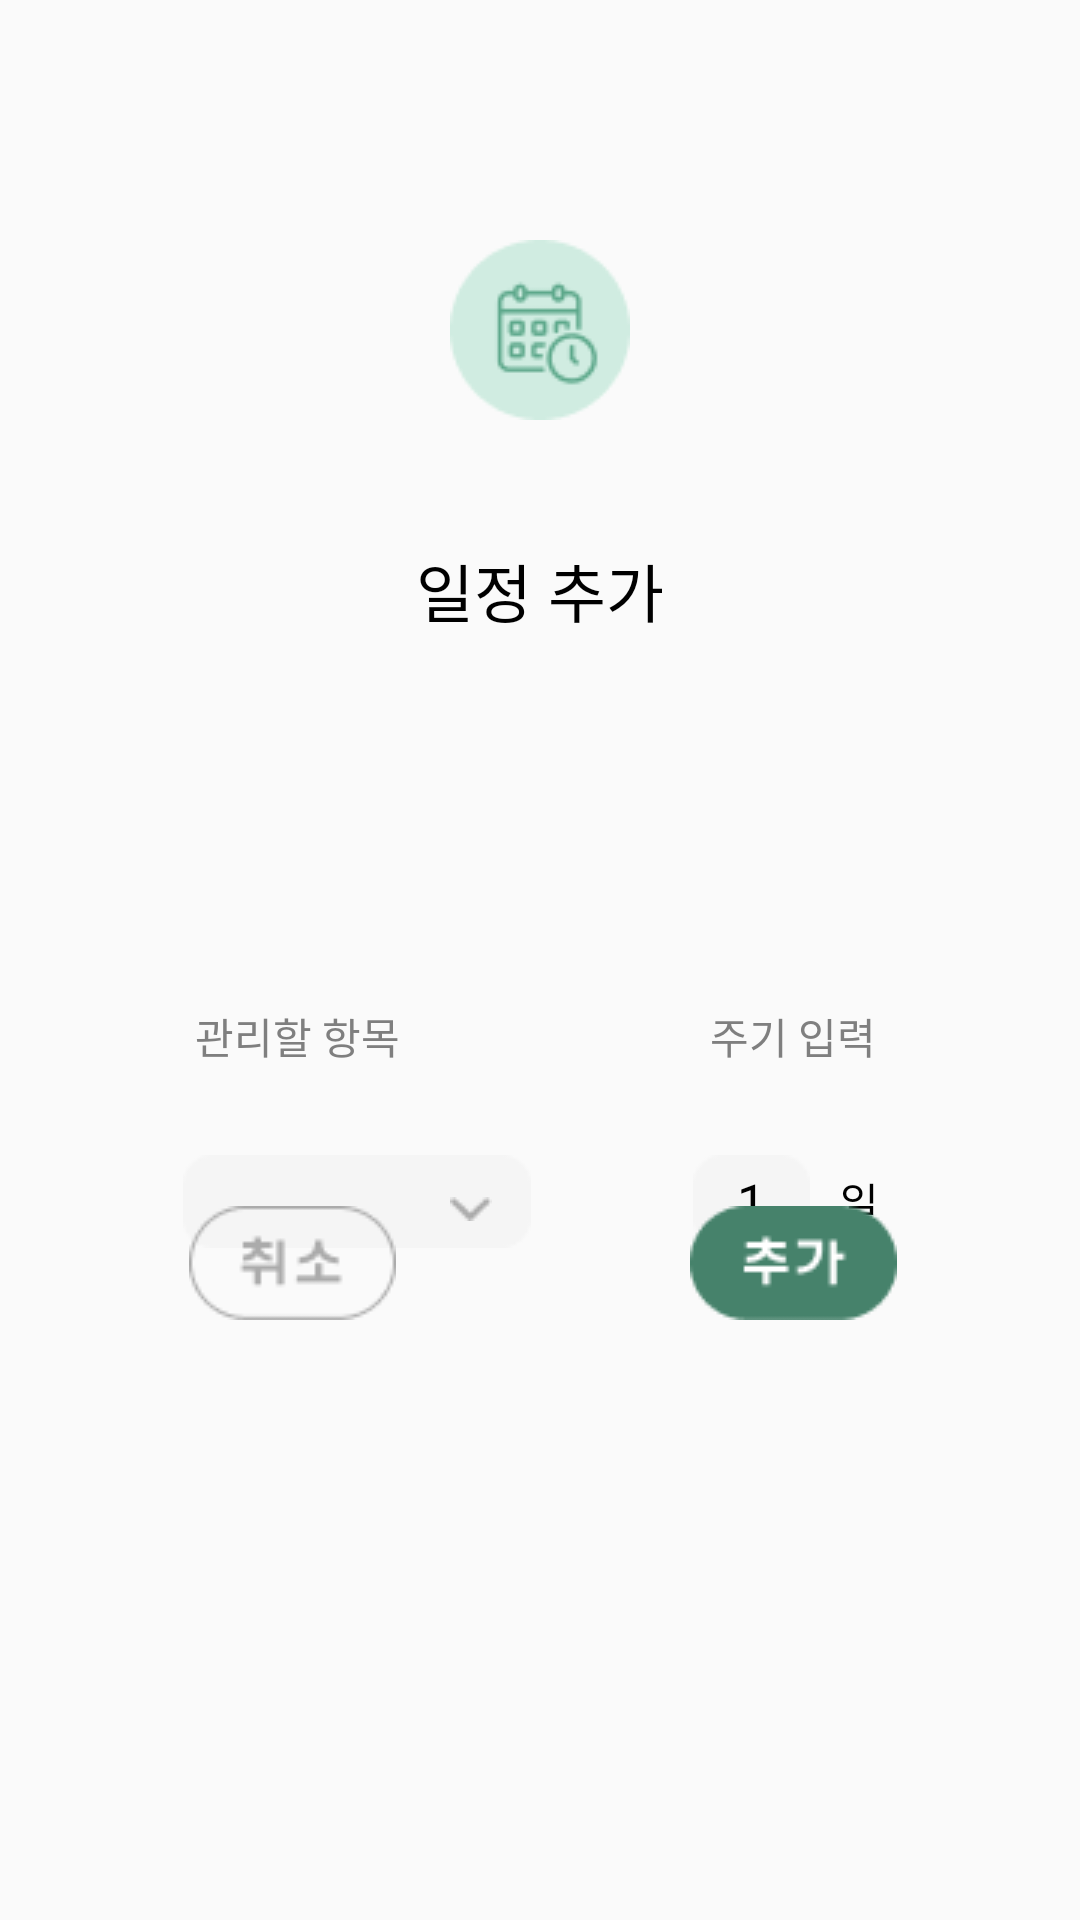

Icon bounding boxes for this 1080*1920 phone screenshot, format bbox=[x1, y1, x2, y2]:
manage calender: bbox=[450, 240, 630, 420]
